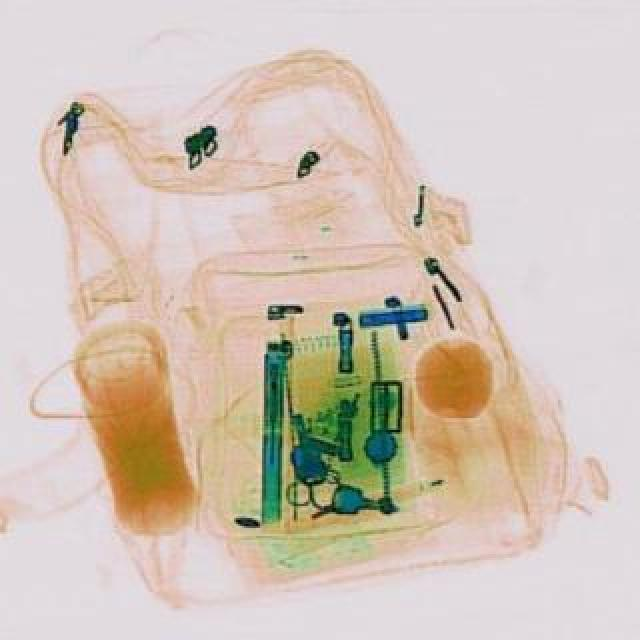pliers: (272, 406, 344, 514)
